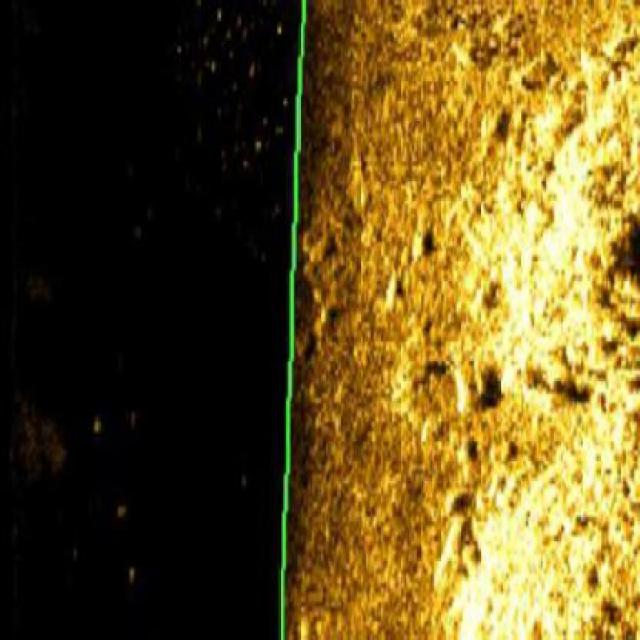bedrock group: (428, 28, 640, 640)
